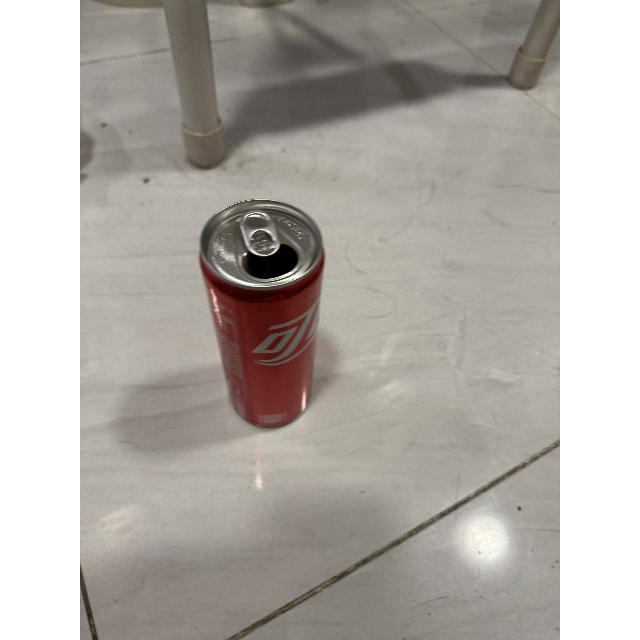coca-cola: (194, 194, 336, 436)
